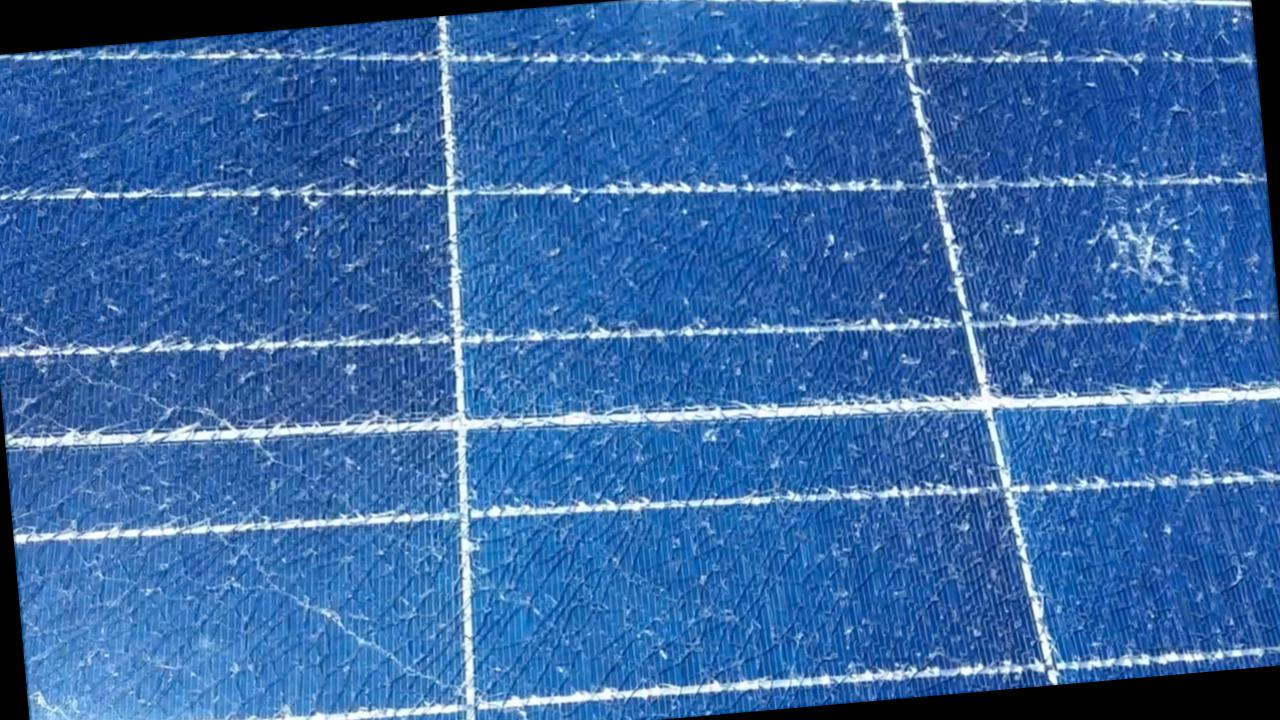Crack: (1076, 196, 1206, 311)
